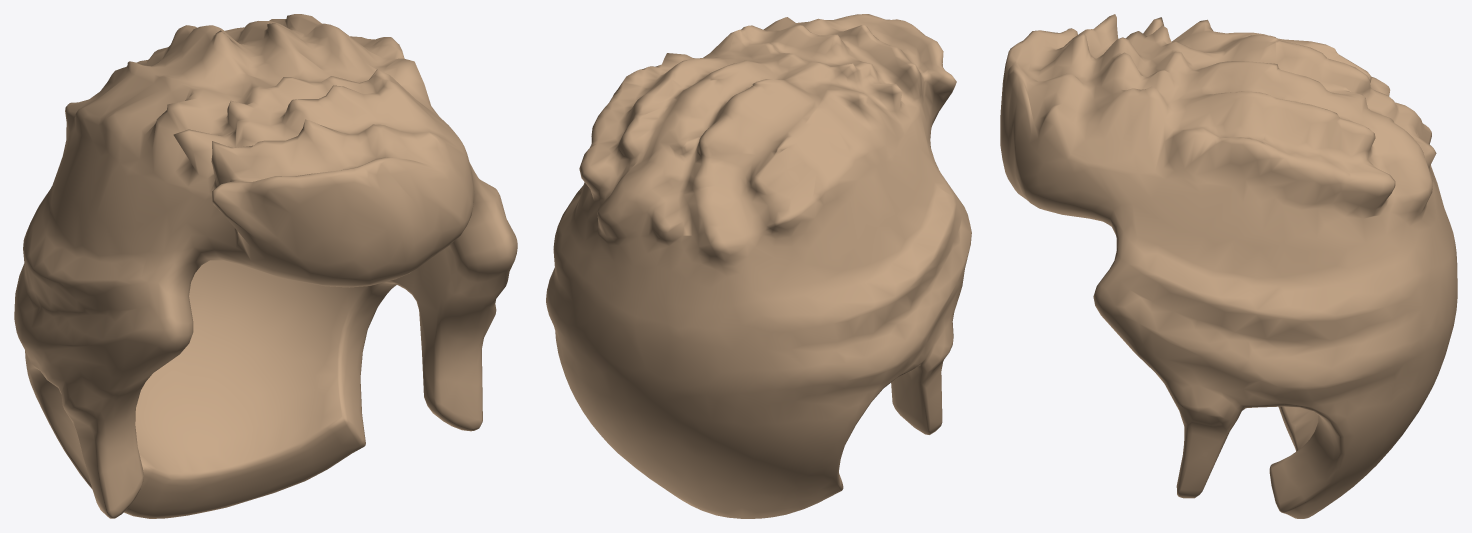
File: hair-6-0bf0cc88.glb
3 renders of one model, left to right at view 1: azimuth 30°, elevation 25°; view 2: azimuth 150°, elevation 25°; view 3: azimuth 270°, elevation 25°, orthographic. The views are drawn at different scales.
Parts seen in each view (by area): view 1: Geo_White_Old_Male_Hair_6.001; view 2: Geo_White_Old_Male_Hair_6.001; view 3: Geo_White_Old_Male_Hair_6.001.
Part boxes in pixels (x1,y1,x2,y2): Geo_White_Old_Male_Hair_6.001: (14,14,517,518); Geo_White_Old_Male_Hair_6.001: (546,14,971,518); Geo_White_Old_Male_Hair_6.001: (1000,14,1457,518).
Bounding box in the file's own units: 1.46 × 1.65 × 1.52.
